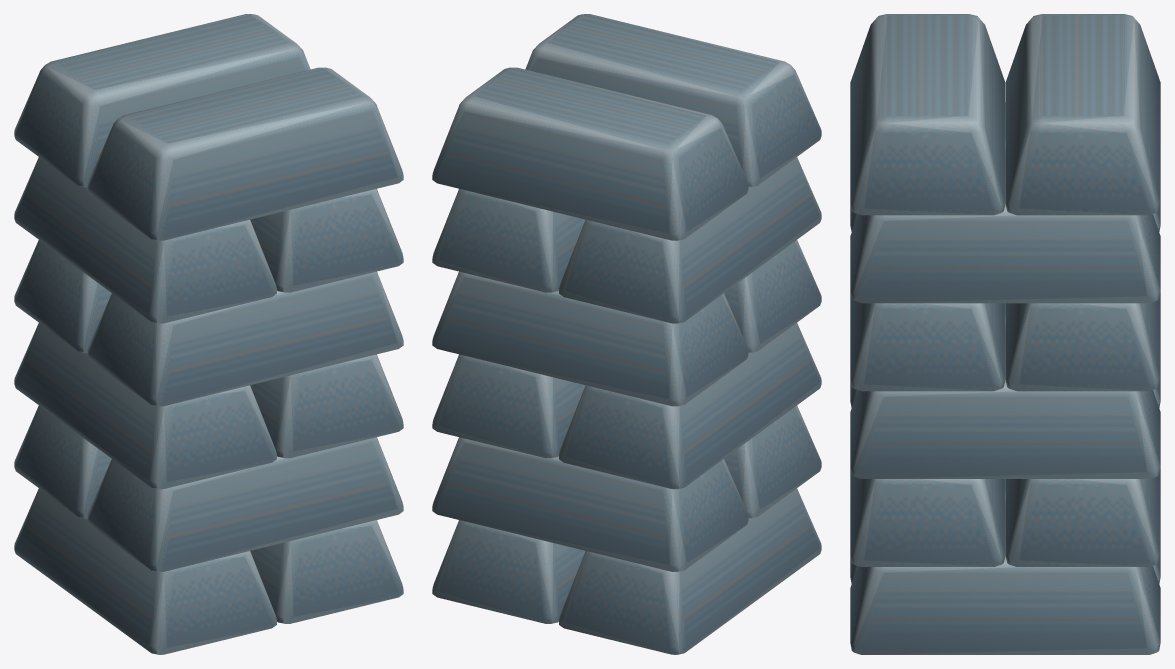
File: Iron_Bars_Stack_Medium.gltf
3 views of the same model, side by side, from view 1: azimuth 30°, elevation 25°; view 2: azimuth 150°, elevation 25°; view 3: azimuth 270°, elevation 25° (orthographic). The views are drawn at different scales.
Parts seen in each view (by area): view 1: Iron_Bars_Stack_Medium; view 2: Iron_Bars_Stack_Medium; view 3: Iron_Bars_Stack_Medium.
Boxes of the visible parts, x1,y1,x2,y2 form: Iron_Bars_Stack_Medium: (14,14,403,654); Iron_Bars_Stack_Medium: (432,14,821,654); Iron_Bars_Stack_Medium: (850,14,1160,654).
Size of the model in its own units: 0.8 by 1.5 by 0.8.
Materials: 1 (1 with a texture image).
